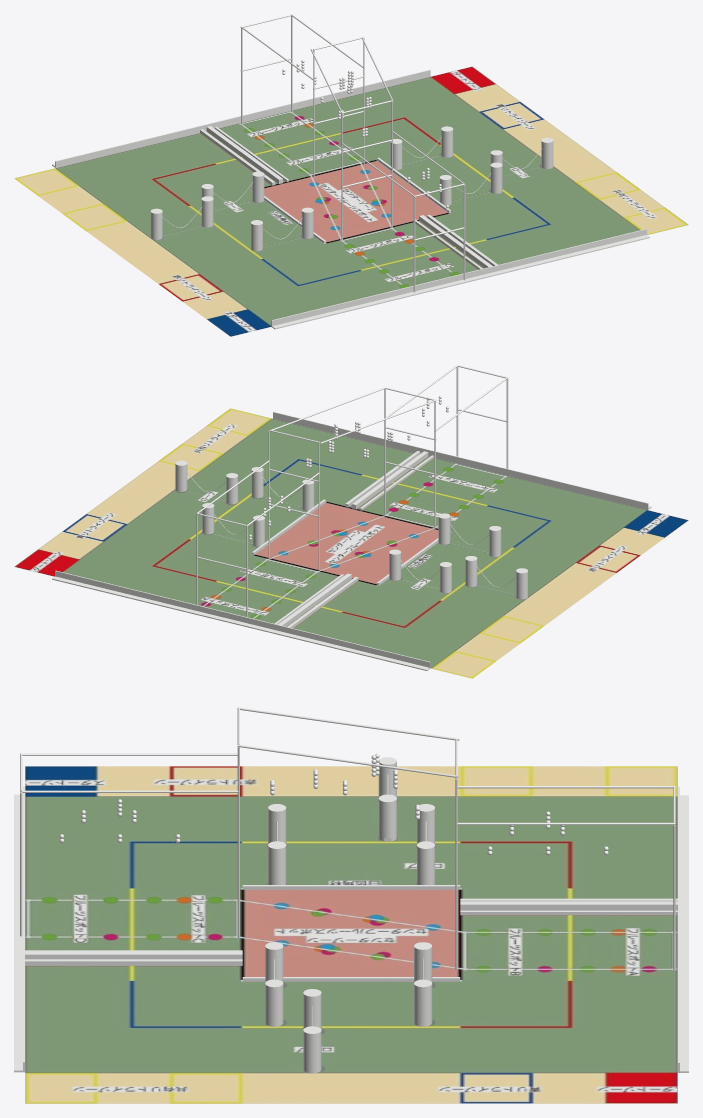
File: field.glb
3 renders of one model, top to bottom at view 1: azimuth 30°, elevation 25°; view 2: azimuth 150°, elevation 25°; view 3: azimuth 270°, elevation 25°, orthographic. The views are drawn at different scales.
Visible parts, largest first — view 1: 平面, Body1.002, Body1.001, Body1.004, Body1.003, Body1.007, Body1.005, Body6, Body1.006, Body1, Body6.001; view 2: 平面, Body1.001, Body1.002, Body1.003, Body1.006, Body1, Body1.004, Body1.007, Body1.005, Body6.001, Body6; view 3: 平面, Body1.001, Body1.002, Body6, Body6.001, Body1.007, Body1.005, Body1.006, Body1.003, Body4.001, Body1.004, Body1 (+10 smaller).
Boxes of the visible parts, box(x1,y1,x2,y2) form: 平面: box(14, 66, 688, 336); Body1.002: box(271, 229, 649, 329); Body1.001: box(52, 70, 430, 167); Body1.004: box(150, 196, 213, 239); Body1.003: box(251, 207, 313, 251); Body1.007: box(439, 162, 502, 206); Body1.005: box(390, 126, 453, 169); Body6: box(206, 126, 282, 183); Body1.006: box(490, 137, 553, 169); Body1: box(201, 171, 264, 203); Body6.001: box(419, 215, 492, 268); 平面: box(14, 408, 688, 678); Body1.001: box(52, 570, 430, 670); Body1.002: box(273, 412, 651, 509); Body1.003: box(438, 513, 501, 556); Body1.006: box(175, 460, 238, 504); Body1: box(389, 549, 451, 593); Body1.004: box(465, 556, 527, 599); Body1.007: box(251, 467, 314, 510); Body1.005: box(202, 503, 264, 546); Body6.001: box(352, 451, 428, 509); Body6: box(278, 573, 351, 626); 平面: box(25, 766, 677, 1103); Body1.001: box(678, 787, 688, 1072); Body1.002: box(14, 786, 24, 1072); Body6: box(460, 901, 677, 910); Body6.001: box(25, 951, 242, 959); Body1.007: box(265, 942, 283, 1026); Body1.005: box(414, 942, 432, 1026); Body1.006: box(303, 989, 321, 1073); Body1.003: box(268, 804, 286, 884); Body4.001: box(25, 959, 242, 965); Body1.004: box(378, 757, 396, 841); Body1: box(417, 804, 434, 884).
Bounding box in the file's own units: 11 × 2.93 × 9.3.
2 materials, 1 textured.
